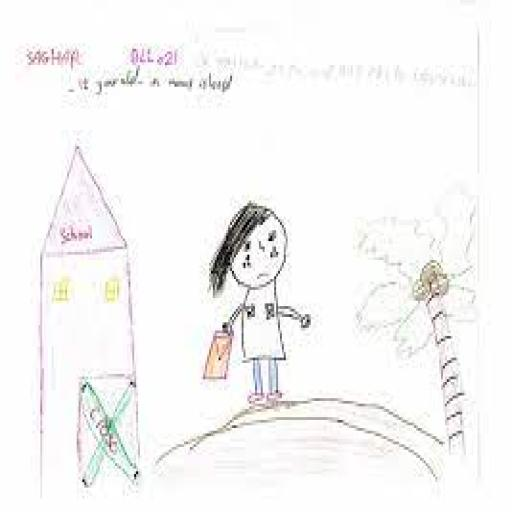person: (201, 197, 312, 409)
